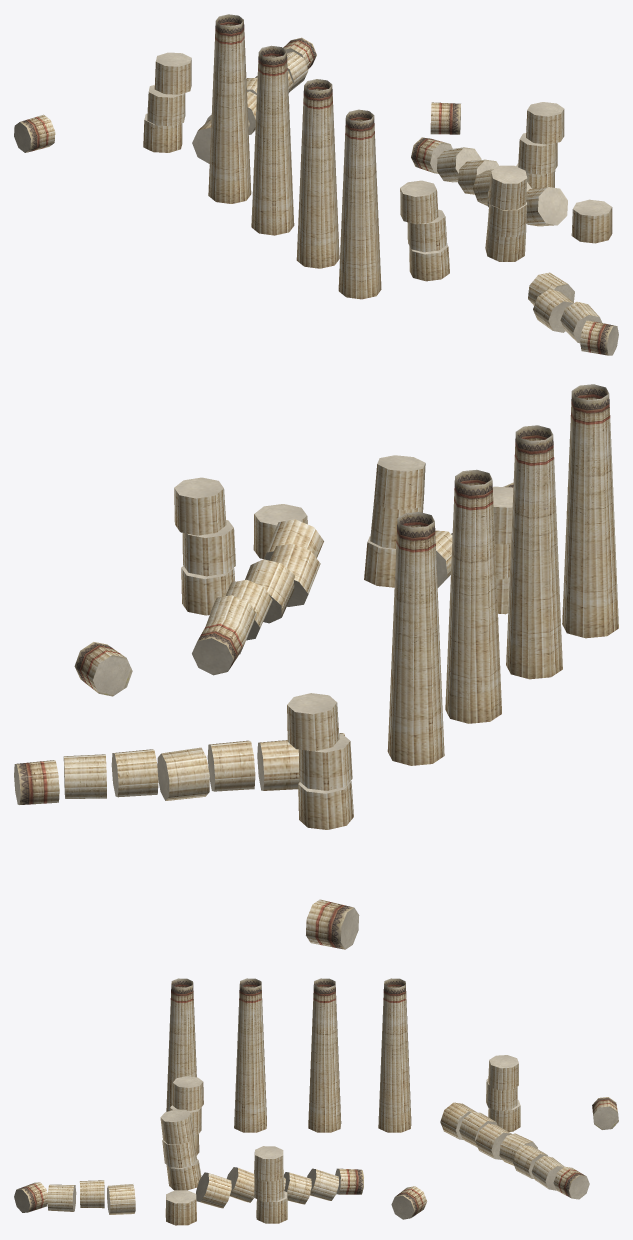
File: temple_unfinished_columns.dae
3 views of the same model, one above another, from view 1: azimuth 30°, elevation 25°; view 2: azimuth 150°, elevation 25°; view 3: azimuth 270°, elevation 25° (orthographic). The views are drawn at different scales.
Parts seen in each view (by area): view 1: Cylinder_03-Pivot; view 2: Cylinder_03-Pivot; view 3: Cylinder_03-Pivot.
Part boxes in pixels (<box>): Cylinder_03-Pivot: <box>14,14,618,355</box>; Cylinder_03-Pivot: <box>14,384,618,949</box>; Cylinder_03-Pivot: <box>14,978,618,1225</box>.
Size of the model in its own units: 18.13 by 34.83 by 10.7.
